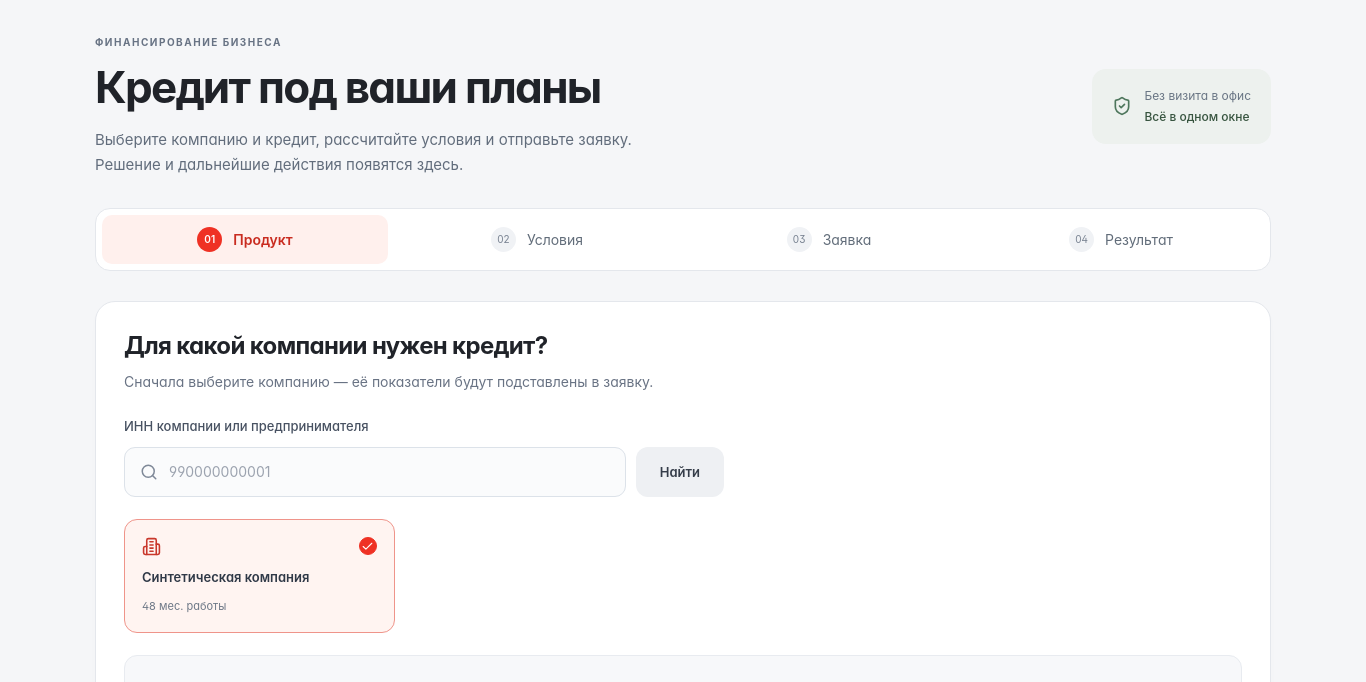
submits and accepts an offer inside the four-section module
This screenshot has width=1366, height=682.
Press the mouse on the tab "03 Заявка": (829, 240) [686,215,972,264]
(page scrolled)
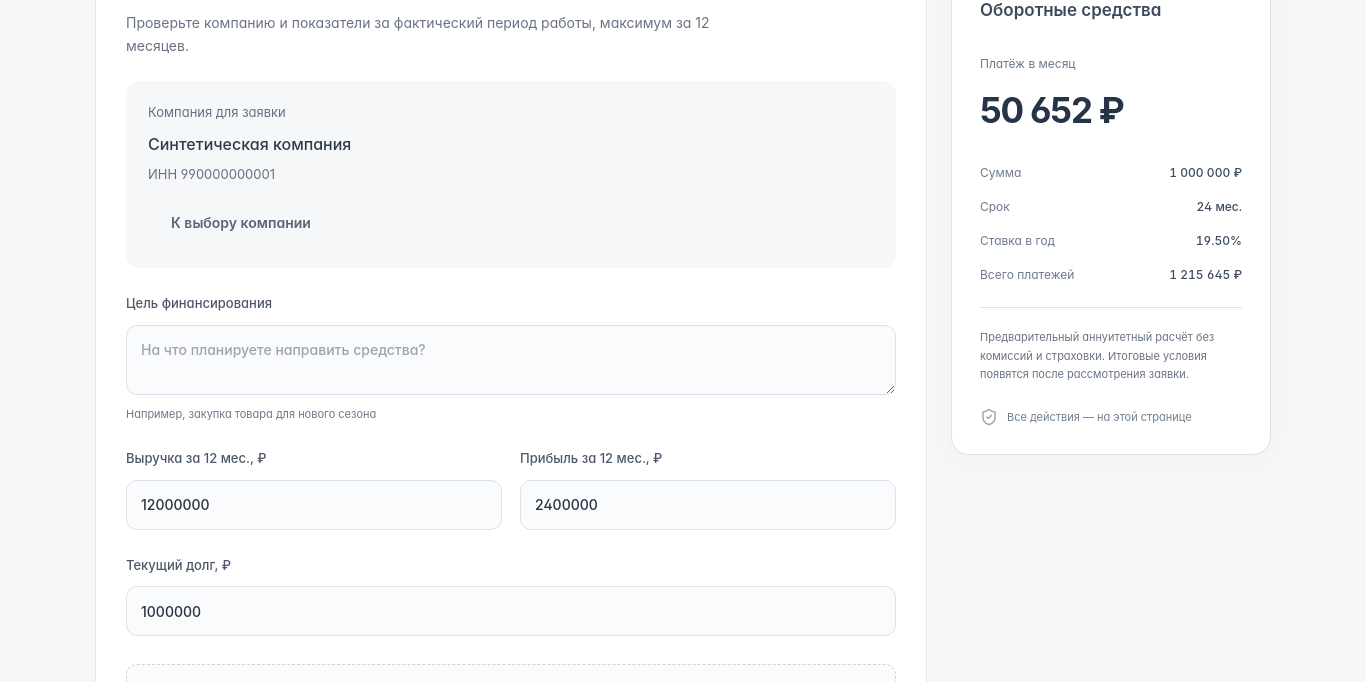
In the text box labelled "Цель финансирования": (511, 360) [126,325,896,395], type "Закупка синтетического оборудования"
(page scrolled)
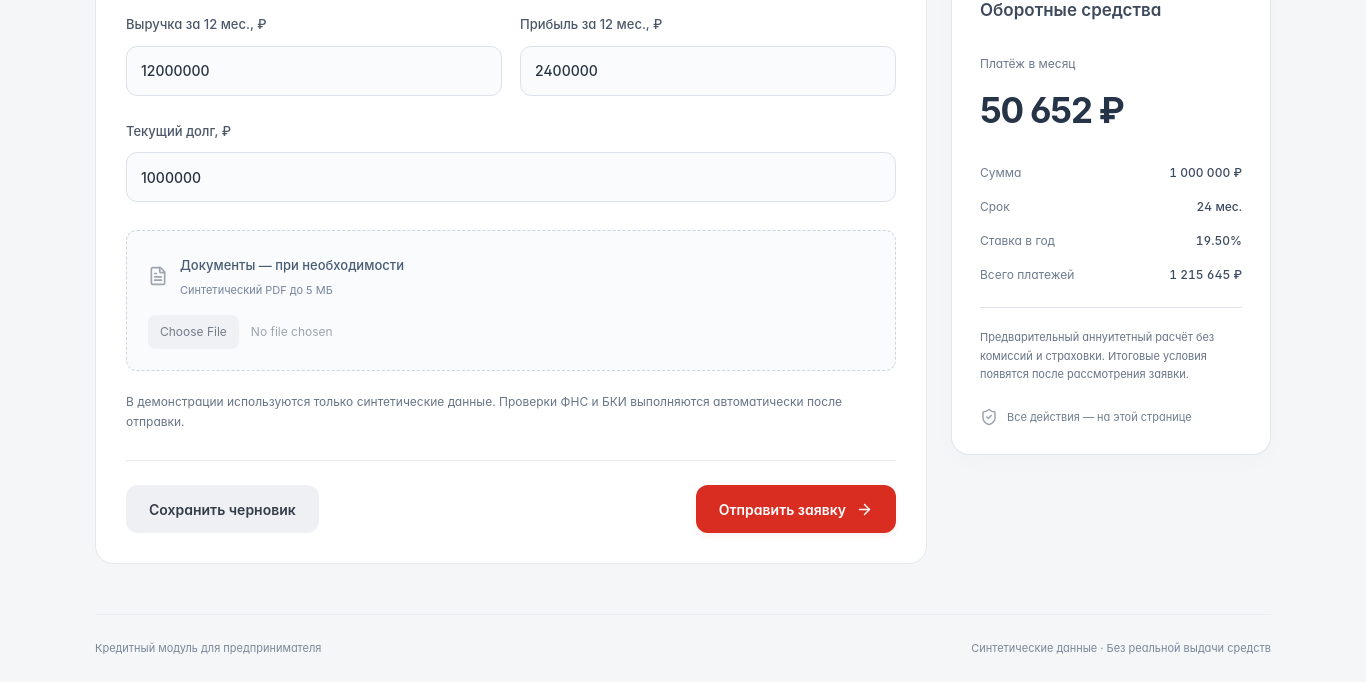
Click the button "Отправить заявку": (796, 509) [696,485,896,533]
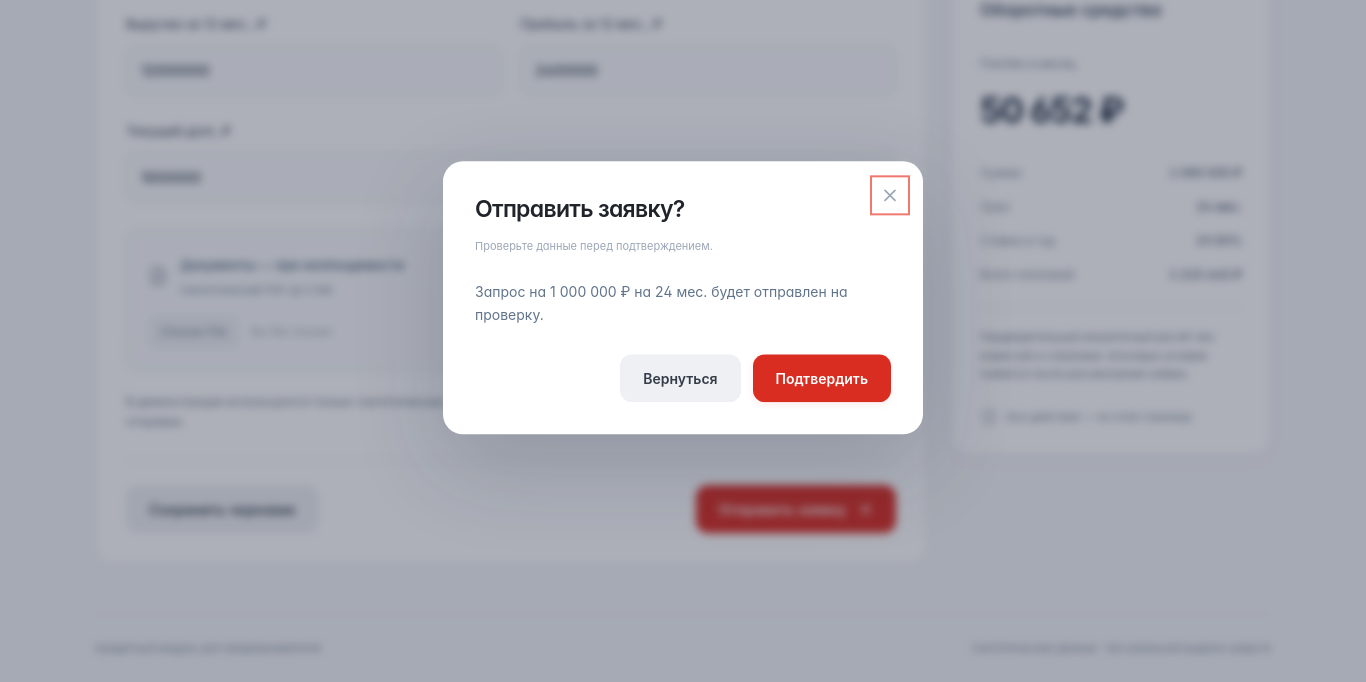
Expected: the dialog is shown, [443,161,923,435]
Click the button "Подтвердить": (822, 379) [752,355,891,403]
(page scrolled)
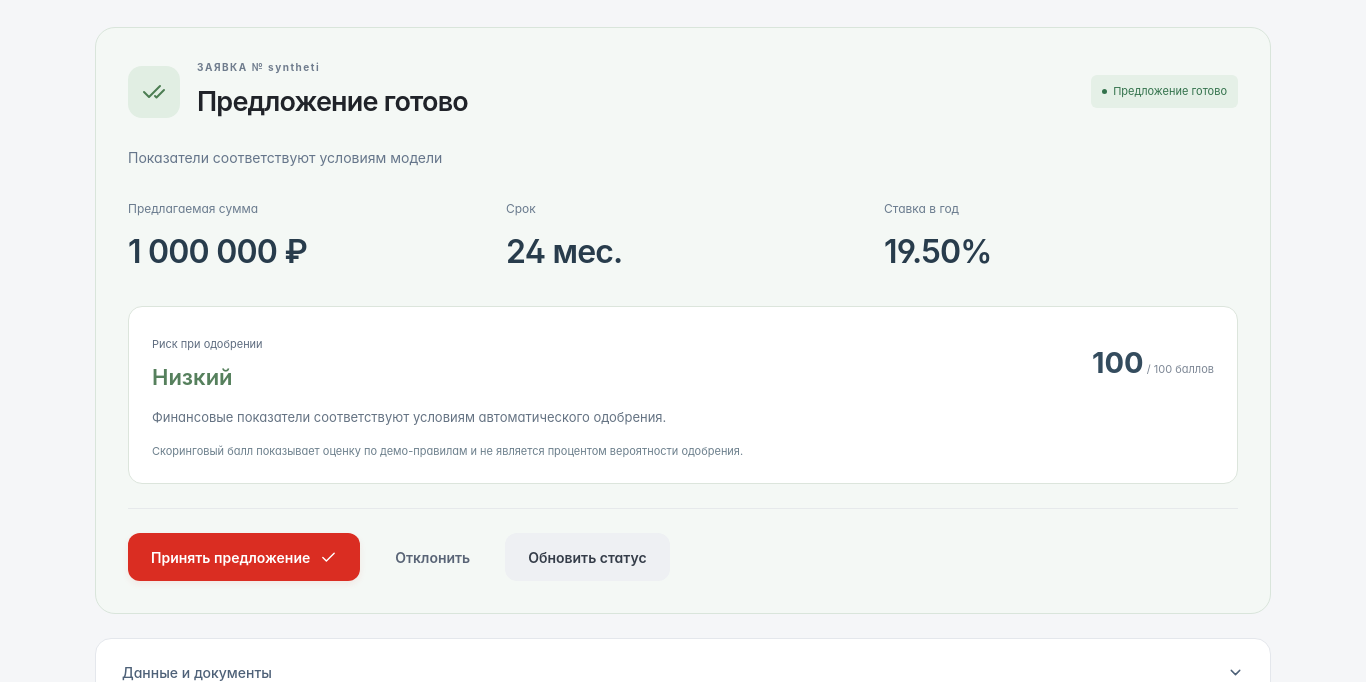
Expected: the heading "Предложение готово" is shown, [197,82,468,123]
Expected: the element "Риск при одобрении" shows "Низкий", [152,364,233,390]
Click the button "Принять предложение": (244, 557) [128,533,360,581]
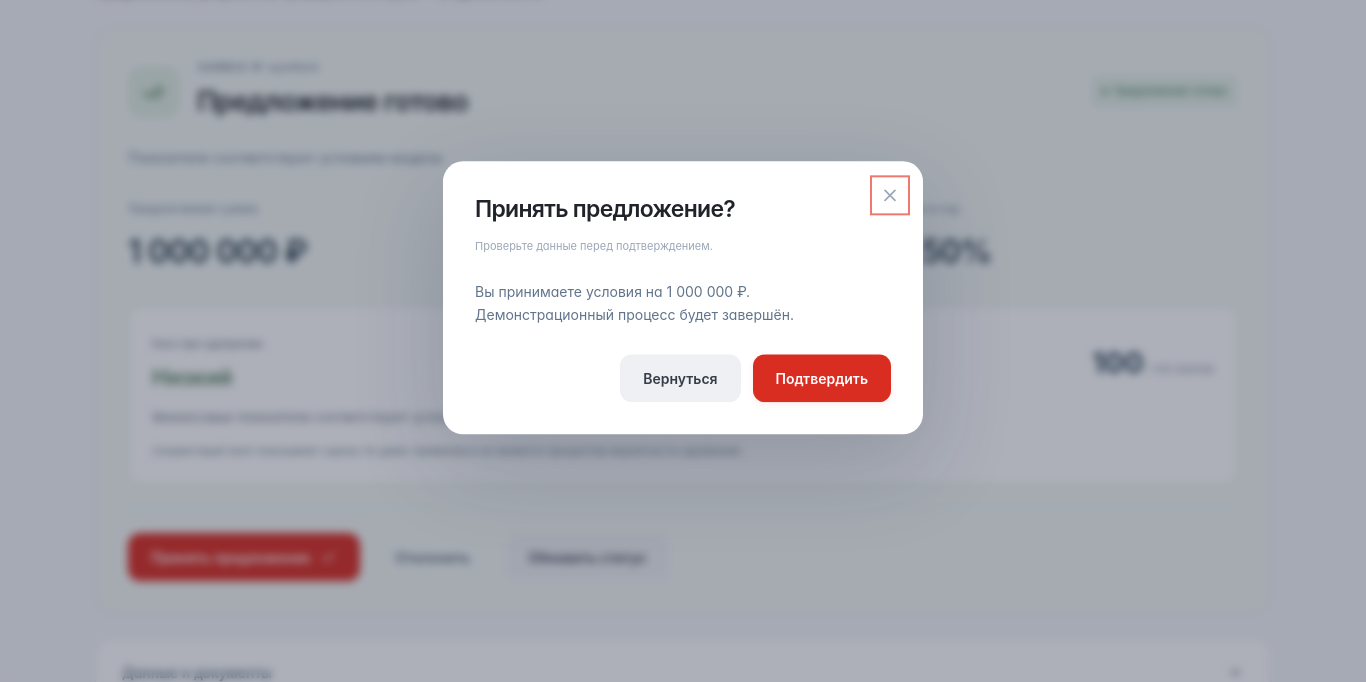
Expected: the dialog is shown, [443,161,923,435]
Click the button "Подтвердить": (822, 379) [752,355,891,403]
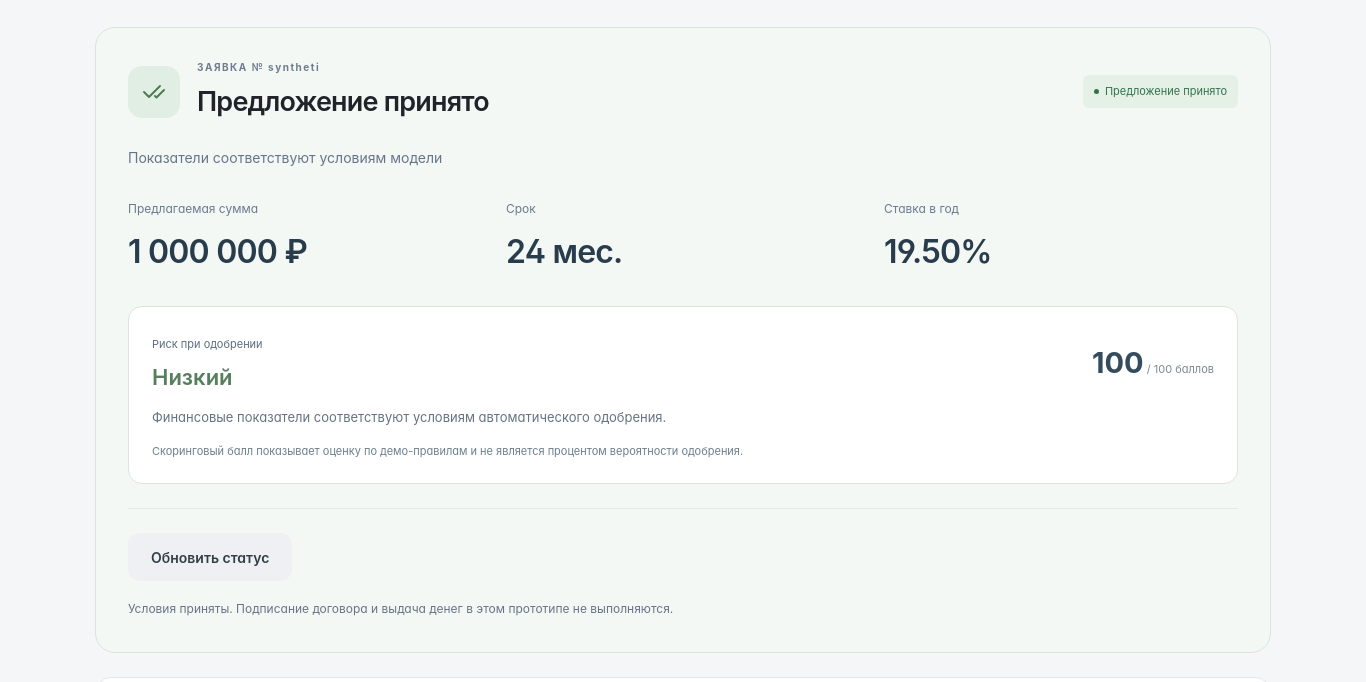
Expected: the heading "Предложение принято" is shown, [197,82,489,123]
